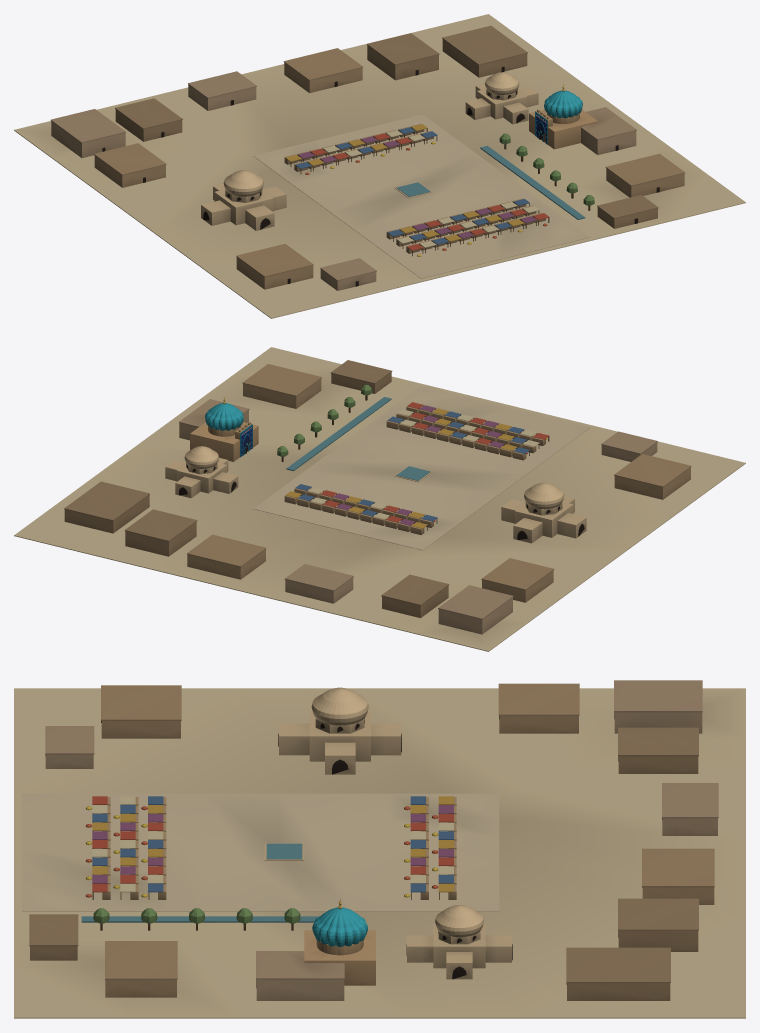
File: registan-1404.glb
3 renders of one model, top to bottom at view 1: azimuth 30°, elevation 25°; view 2: azimuth 150°, elevation 25°; view 3: azimuth 270°, elevation 25°, orthographic. The views are drawn at different scales.
Parts seen in each view (by area): view 1: p0_square, p1_market, p2_mosque; view 2: p0_square, p1_market, p2_mosque; view 3: p0_square, p1_market, p2_mosque.
Boxes of the visible parts, x1,y1,x2,y2 form: p0_square: [14, 14, 745, 318]; p1_market: [50, 25, 685, 290]; p2_mosque: [529, 84, 597, 149]; p0_square: [14, 347, 745, 651]; p1_market: [64, 360, 691, 634]; p2_mosque: [190, 397, 258, 461]; p0_square: [14, 688, 745, 1018]; p1_market: [29, 680, 718, 1000]; p2_mosque: [304, 898, 375, 985].
Bounding box in the file's own units: 196 × 20.48 × 184.
